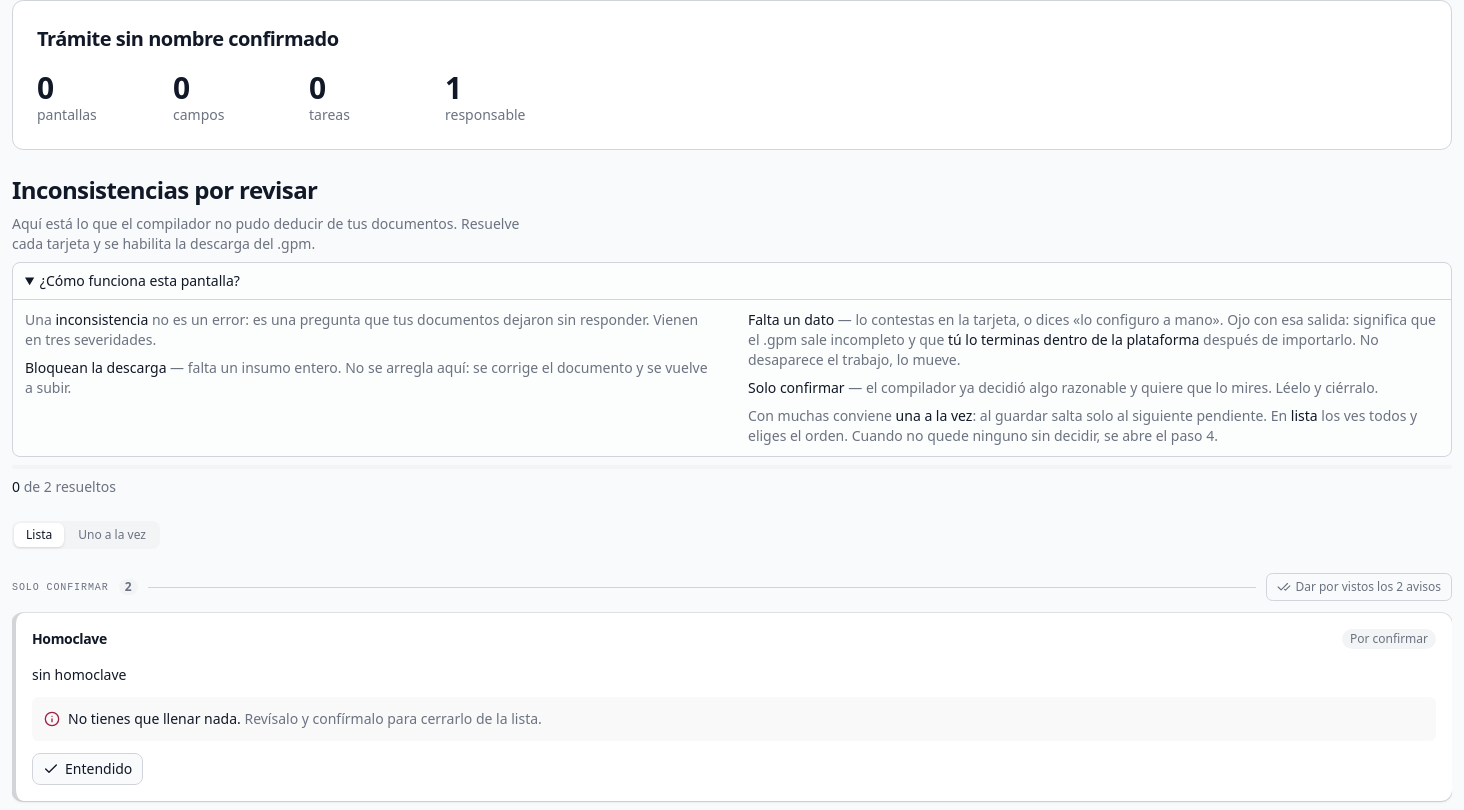
si un reconocer falla a medias, «Dar por vistos» se detiene y lo dice
Click the button "Dar por vistos los 2 avisos".
click(1359, 587)  # box [1266,573,1452,601]
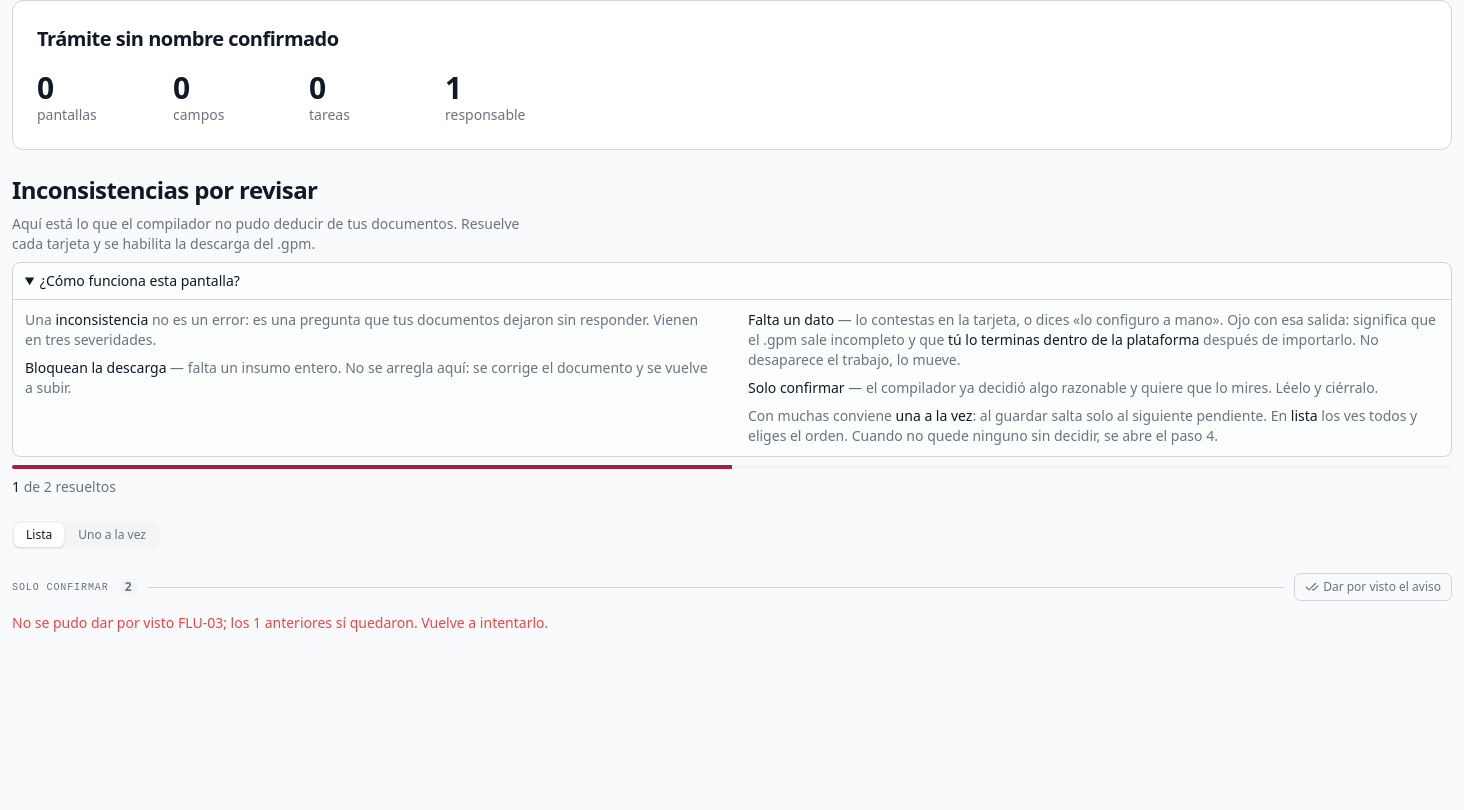
Result: the text "1 de 2 resueltos" is shown at [12,477,116,496]
Result: the button "Dar por visto el aviso" is shown at [1294,573,1452,601]
Result: the message shows "FLU-03" at [12,613,548,632]
